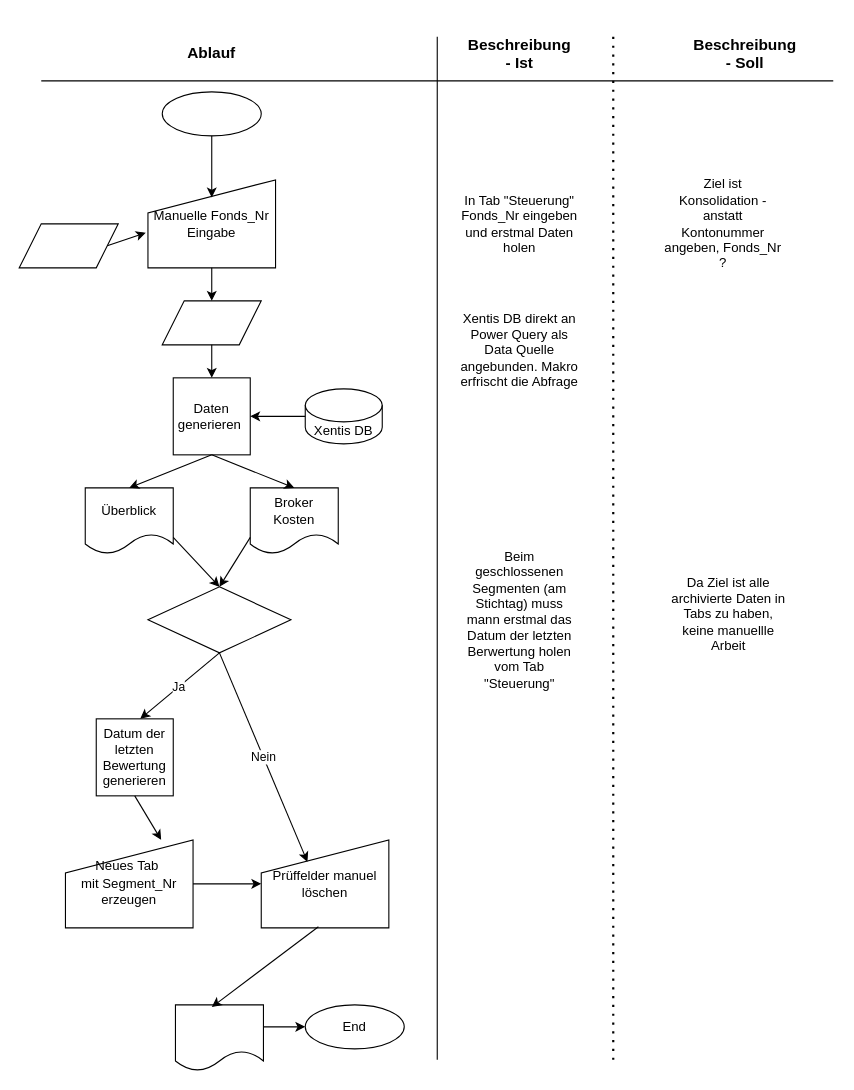
Some shapes in this 854 by 1090 pixel diagram are drawn without their labels. Here are the shapes that lost their labels. From the top down, the centre of each, then its label:
At point (211, 113): "Start".
At point (68, 245): "Fonds ID".
At point (211, 322): "Report Date".
At point (219, 619): "Geschlossene Segmente?".
At point (218, 1037): "End Bericht".
